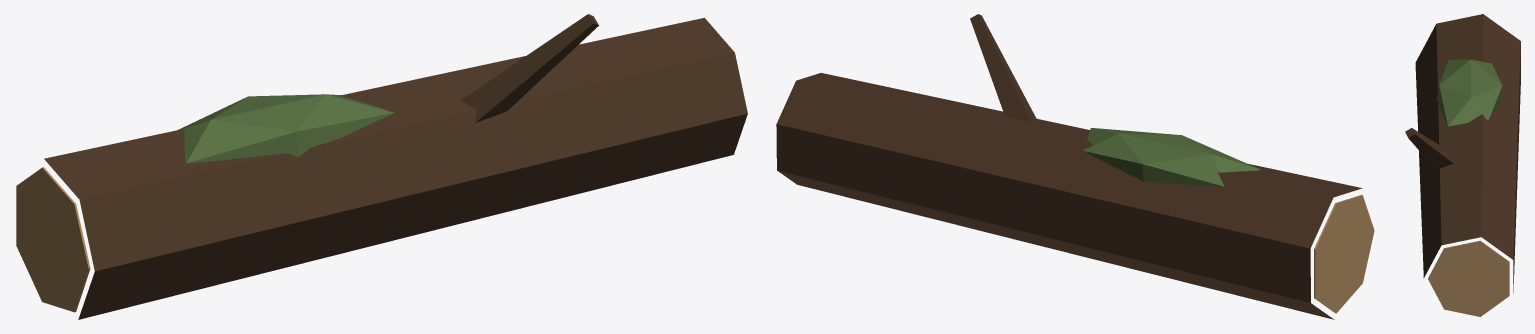
File: nat-tronco.gltf
3 views of the same model, side by side, from view 1: azimuth 30°, elevation 25°; view 2: azimuth 150°, elevation 25°; view 3: azimuth 270°, elevation 25° (orthographic). The views are drawn at different scales.
Visible parts, largest first — view 1: nat-tronco; view 2: nat-tronco; view 3: nat-tronco.
Part boxes in pixels (x1,y1,x2,y2): nat-tronco: (16, 14, 747, 319); nat-tronco: (776, 14, 1374, 319); nat-tronco: (1405, 14, 1520, 316).
Size of the model in its own units: 1.81 by 0.5601 by 0.4177.
